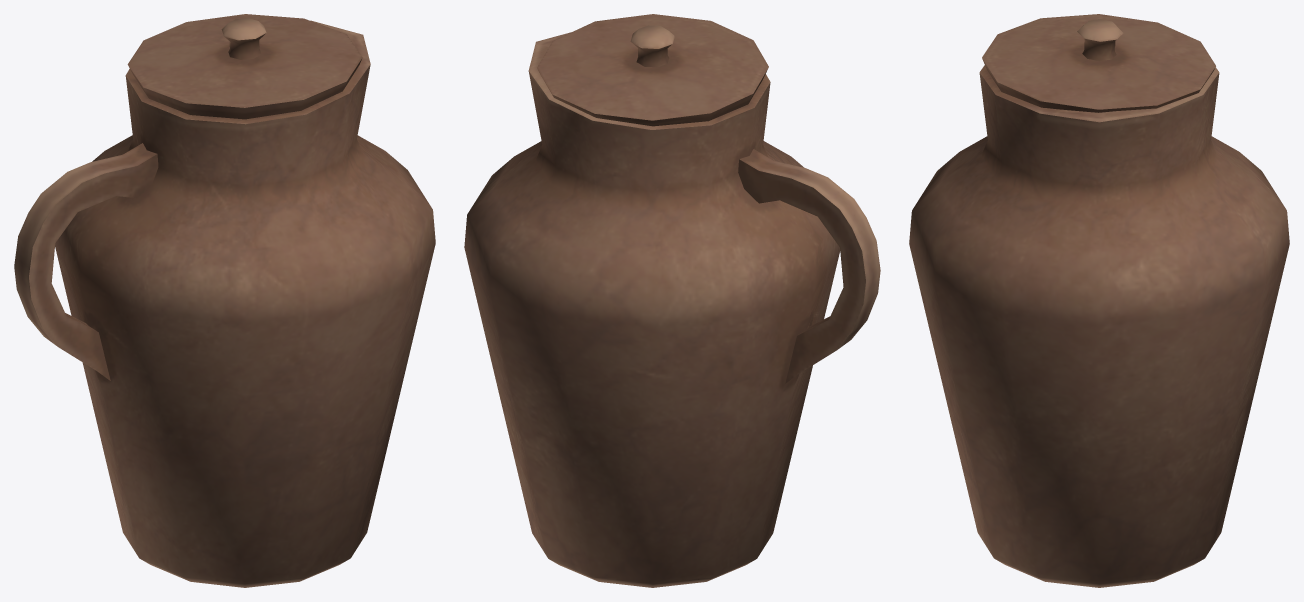
3 views of the same model, side by side, from view 1: azimuth 30°, elevation 25°; view 2: azimuth 150°, elevation 25°; view 3: azimuth 270°, elevation 25° (orthographic).
Parts seen in each view (by area): view 1: submesh_0; view 2: submesh_0; view 3: submesh_0.
Boxes of the visible parts, x1,y1,x2,y2 form: submesh_0: (14, 14, 435, 587); submesh_0: (464, 14, 880, 587); submesh_0: (909, 14, 1289, 587).
Size of the model in its own units: 0.4491 by 0.5712 by 0.3817.
1 material, 1 textured.
